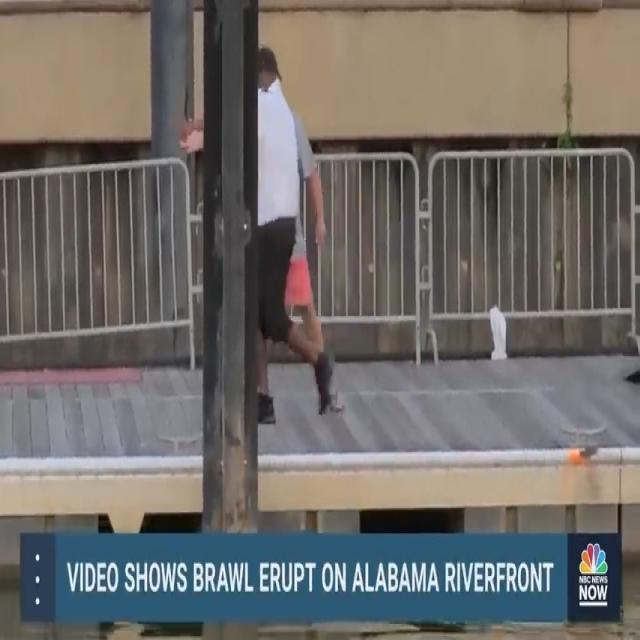non-fight: (173, 15, 336, 442)
